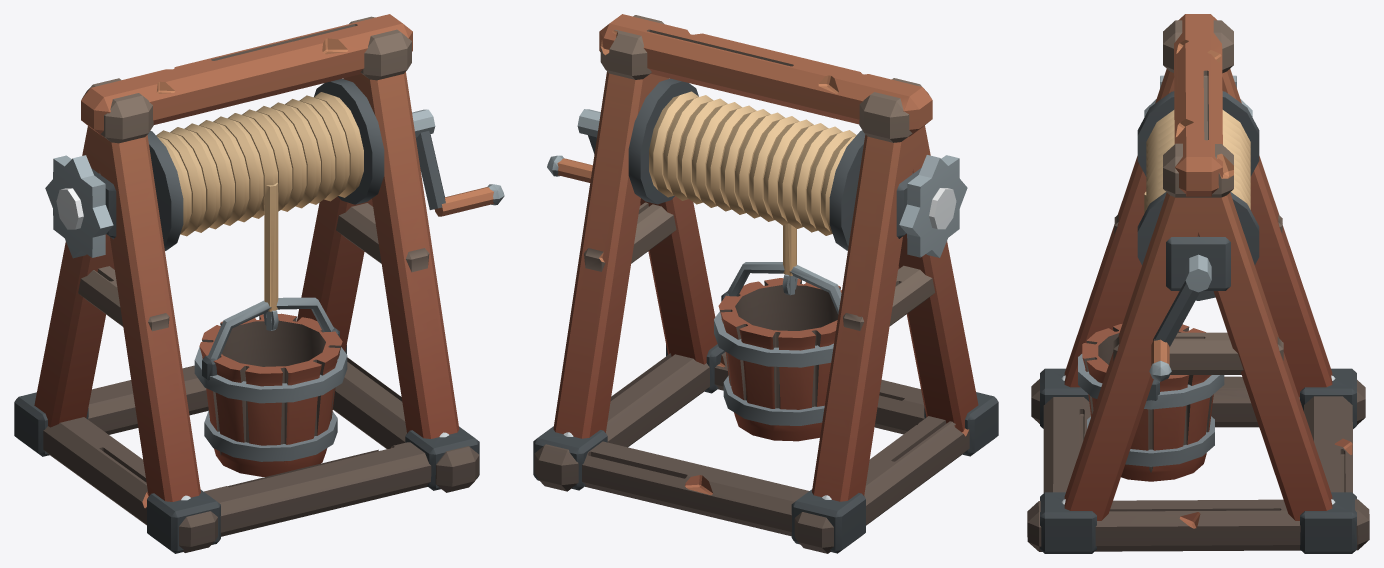
The model's file is winch.glb.
3 renders of one model, left to right at view 1: azimuth 30°, elevation 25°; view 2: azimuth 150°, elevation 25°; view 3: azimuth 270°, elevation 25°, orthographic.
Visible parts, largest first — view 1: winch; view 2: winch; view 3: winch.
Part boxes in pixels (<box>): winch: <box>14,14,504,553</box>; winch: <box>533,14,998,553</box>; winch: <box>1027,14,1369,553</box>.
Size of the model in its own units: 1.74 by 1.63 by 1.26.
1 material, 1 textured.
